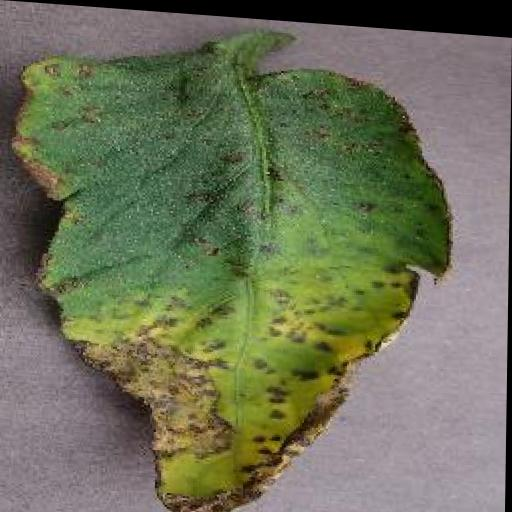Bacterial Spot: (10, 34, 460, 512)
